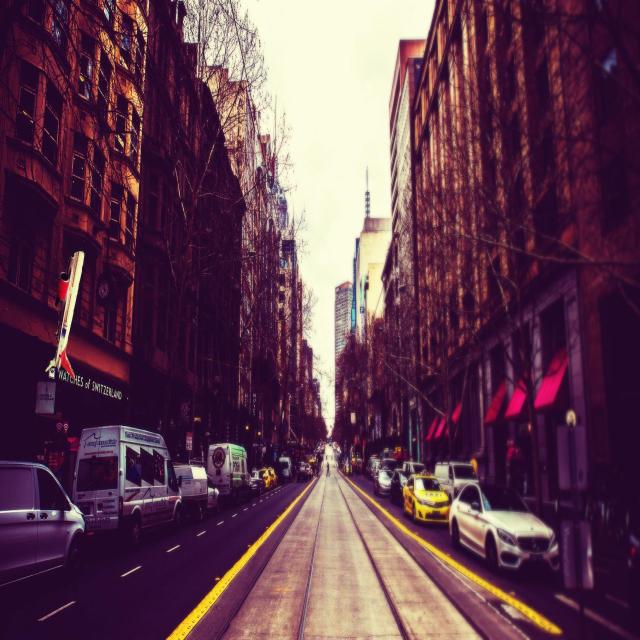airplane: (46, 250, 84, 378)
